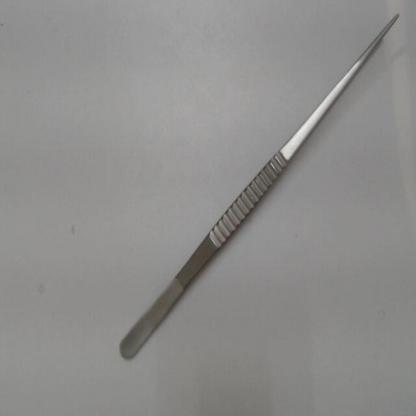DeBakey Dissector: (110, 3, 406, 384)
